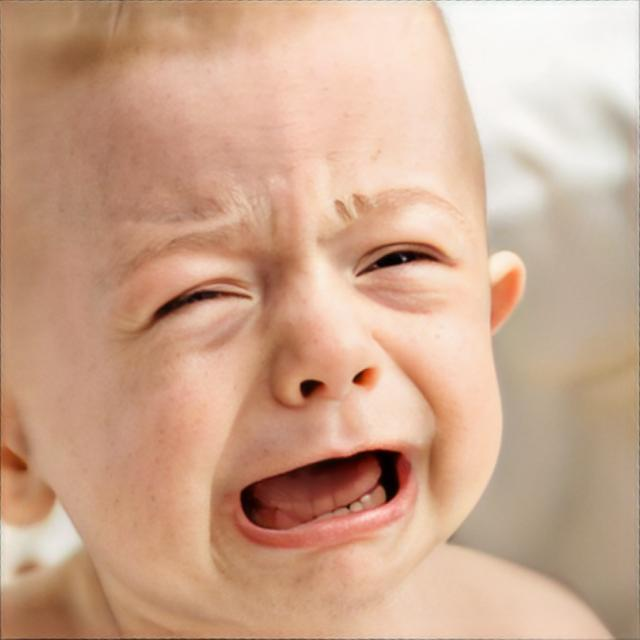sad: (30, 4, 508, 632)
